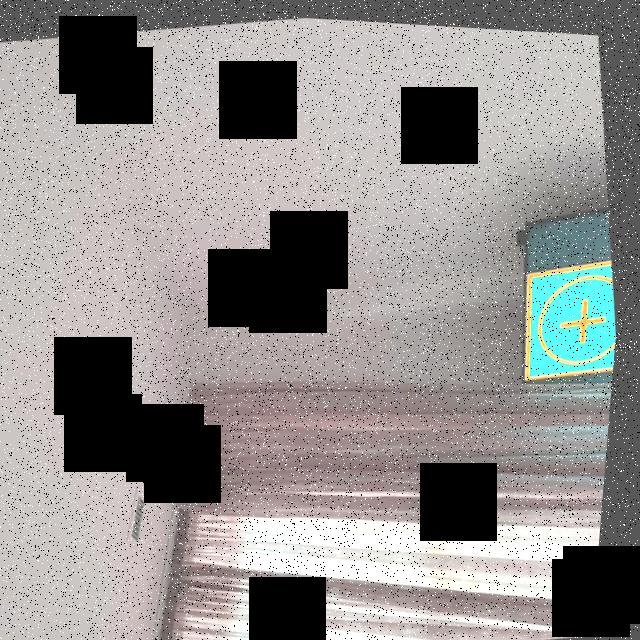Marker: (515, 245, 626, 377)
